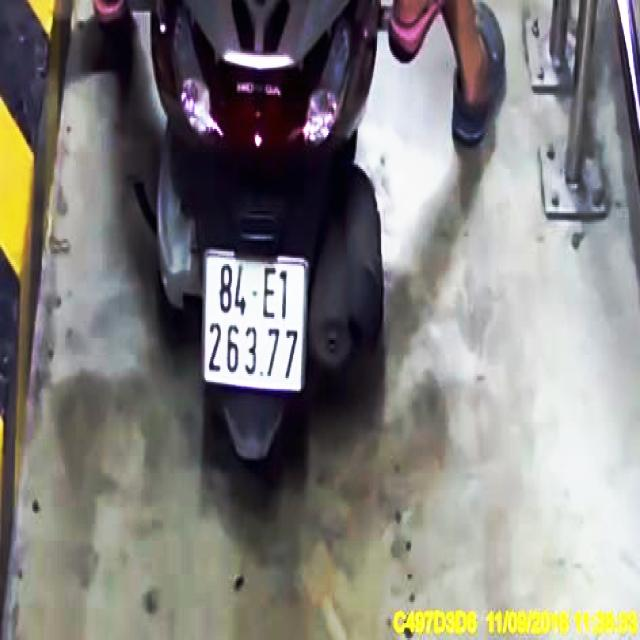license_plate: (205, 250, 310, 390)
